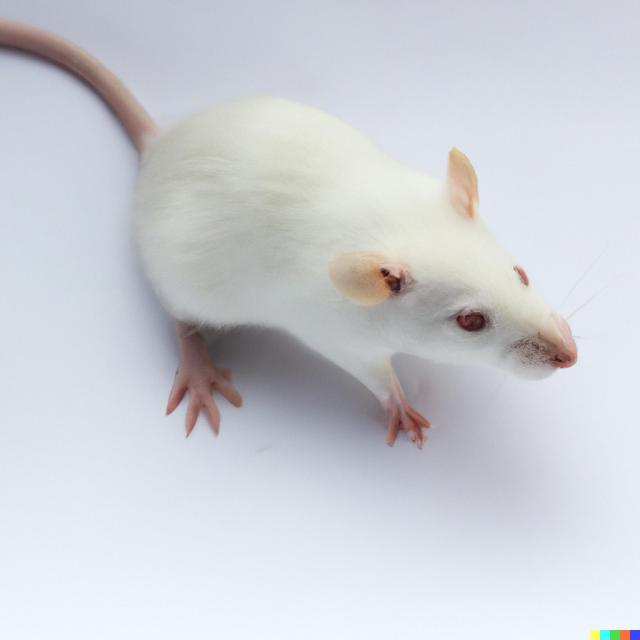rodent: (124, 78, 607, 477)
